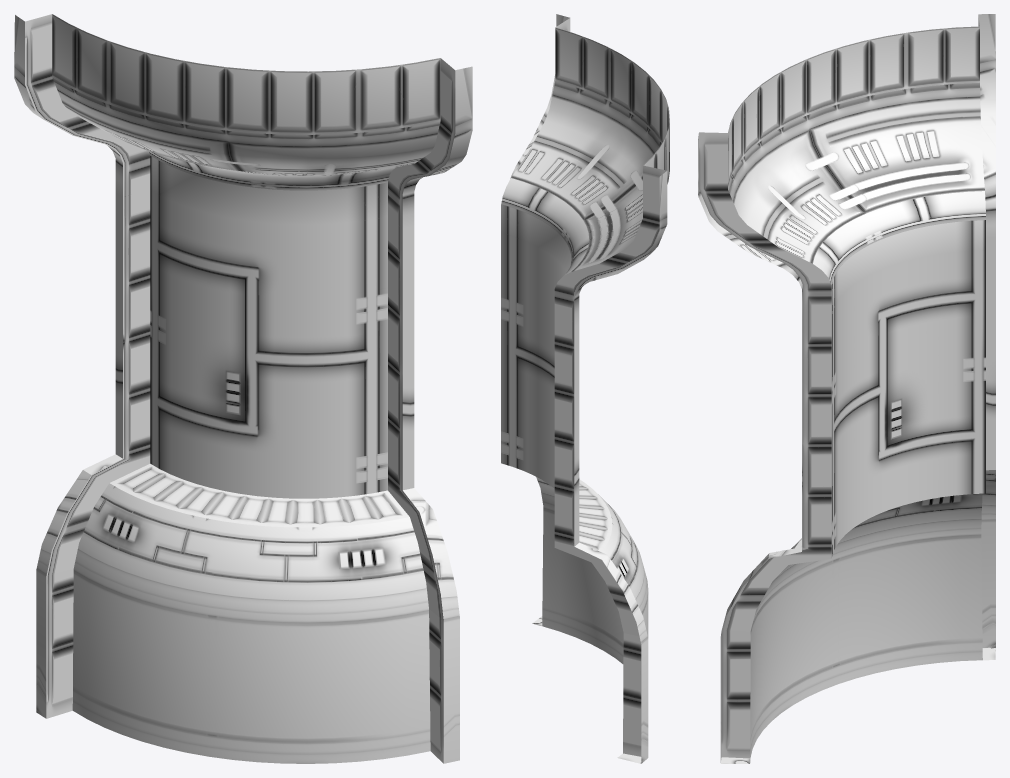
File: Wall_Turn_01.obj
The picture shows the model from 3 angles, left to right: view 1: azimuth 30°, elevation 25°; view 2: azimuth 150°, elevation 25°; view 3: azimuth 270°, elevation 25°; orthographic projection. The views are drawn at different scales.
Visible parts, largest first — view 1: Turn_01; view 2: Turn_01; view 3: Turn_01.
Part boxes in pixels (box(x1,y1,x2,y2)): Turn_01: box(14, 14, 472, 763); Turn_01: box(501, 14, 669, 763); Turn_01: box(698, 14, 995, 763).
Size of the model in its own units: 1.08 by 2.5 by 1.08.
